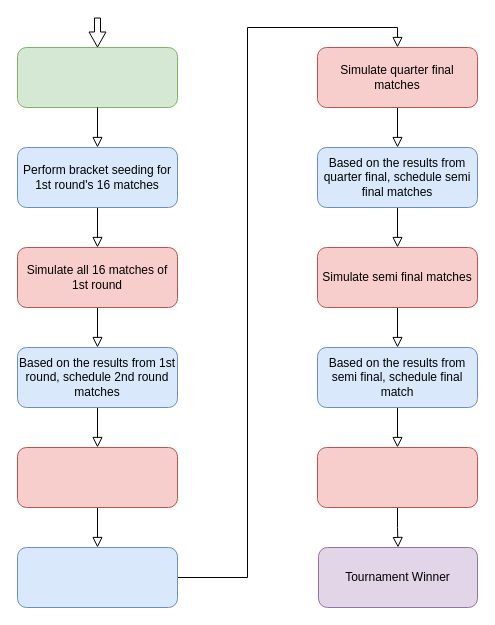
Image size: 495x625. Some labels were removed from this diagram. Here are the shapes that lost their labels. From the top down, the box of each, then its label:
(16, 46, 178, 108): Process input statistics data for a list of 32 tennis players
(16, 446, 178, 508): Simulate 2nd round's 8 matches
(316, 446, 478, 508): Simulate final match
(16, 546, 178, 608): Based on the results from 2nd round, schedule quarter final matches
